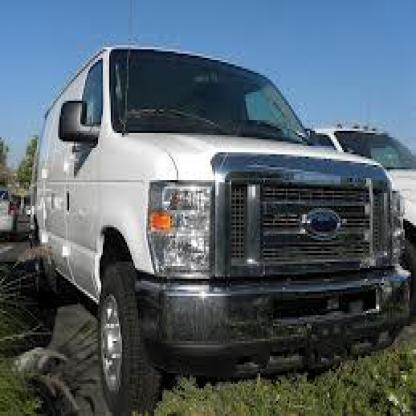Vehicle: (29, 36, 413, 414)
